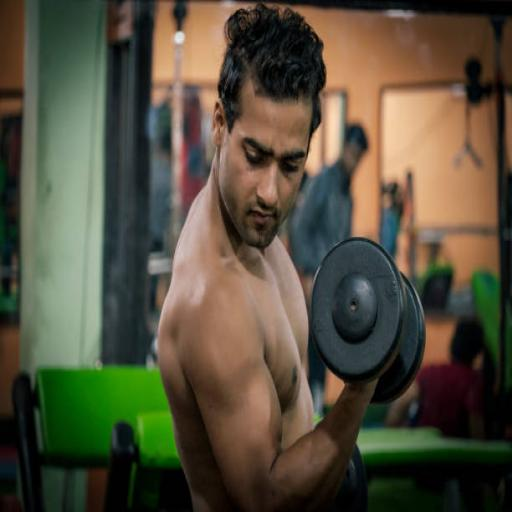Person: (96, 90, 408, 434)
no_goggle: (217, 169, 313, 214)
no_helmet: (196, 88, 334, 202)
none: (151, 200, 361, 411)
